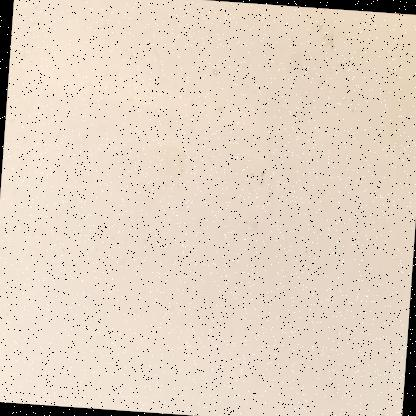Nocrack: (1, 18, 409, 415)
